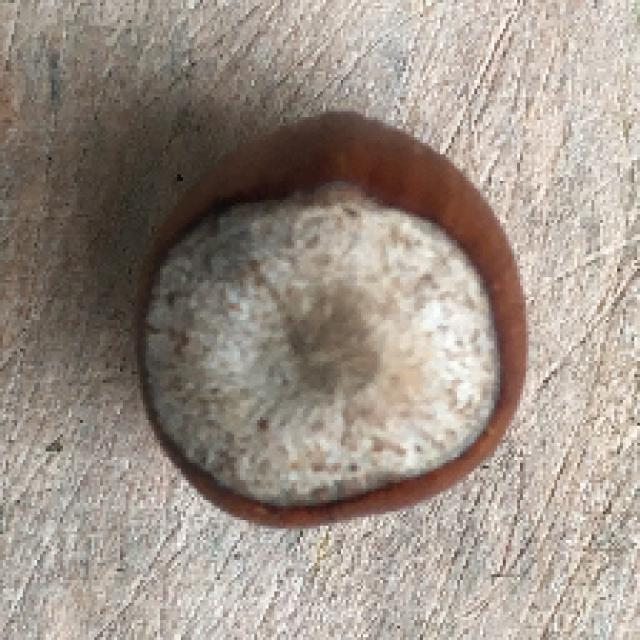qualityHazelnut: (112, 99, 540, 539)
